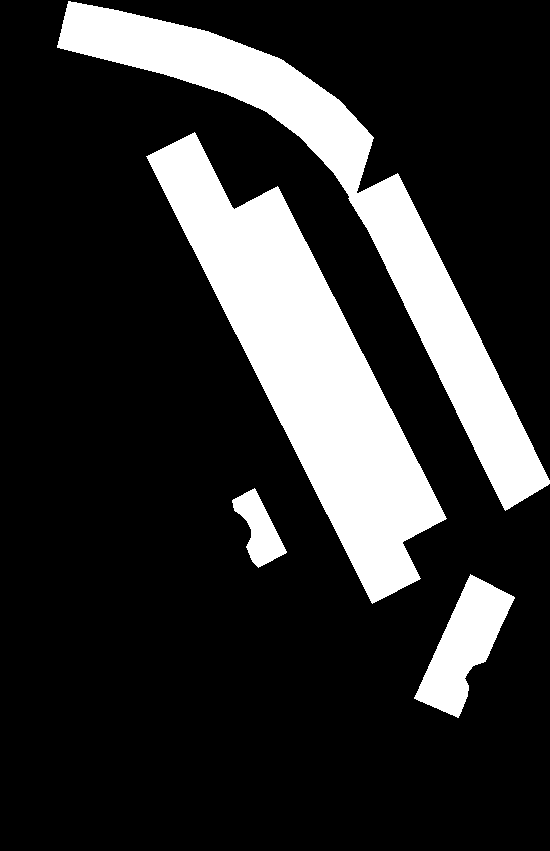parkingspot: (146, 132, 420, 603), (230, 186, 446, 543), (348, 173, 550, 510), (57, 1, 373, 202), (414, 574, 514, 717), (232, 488, 286, 567)
